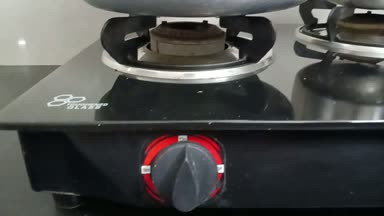noflame_gason: (107, 15, 272, 214)
